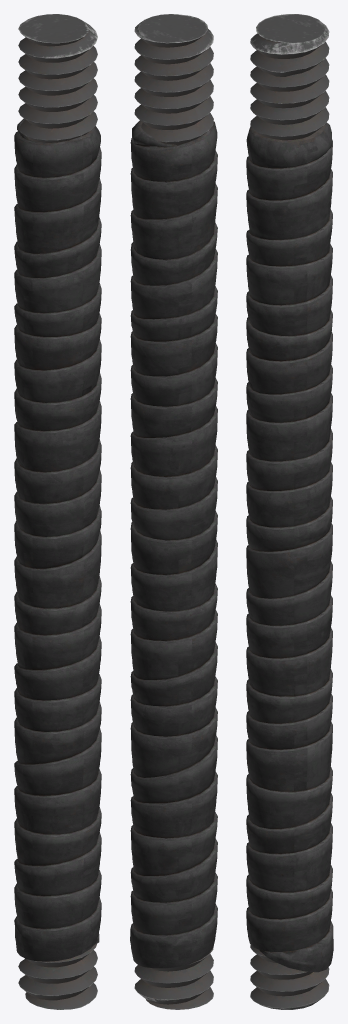
File: Handle_Hammer_3.glb
3 renders of one model, left to right at view 1: azimuth 90°, elevation 25°; view 2: azimuth 150°, elevation 25°; view 3: azimuth 330°, elevation 25°, orthographic.
Parts seen in each view (by area): view 1: Handle_Hammer_3_LOD0; view 2: Handle_Hammer_3_LOD0; view 3: Handle_Hammer_3_LOD0.
Boxes of the visible parts, <box> form: Handle_Hammer_3_LOD0: <box>14,14,101,1009</box>; Handle_Hammer_3_LOD0: <box>130,14,217,1009</box>; Handle_Hammer_3_LOD0: <box>246,14,333,1009</box>.
Bounding box in the file's own units: 0.0425 × 0.5085 × 0.0418.
Materials: 1 (1 with a texture image).
